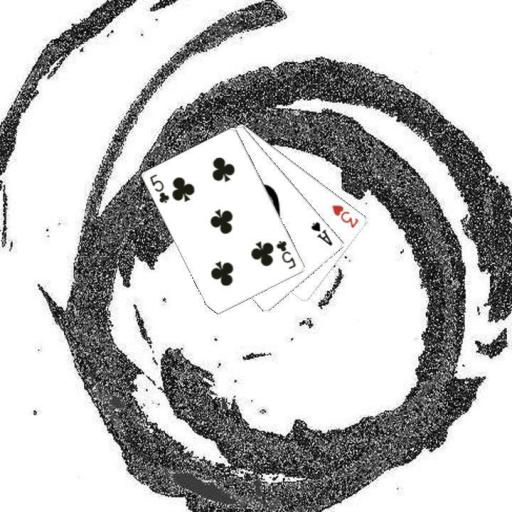card-corner: (329, 201, 361, 230), (273, 237, 298, 271), (148, 170, 172, 204), (308, 218, 334, 248)
